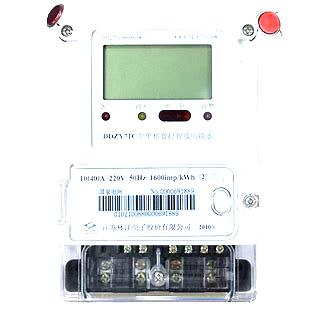digital: (53, 18, 256, 244)
